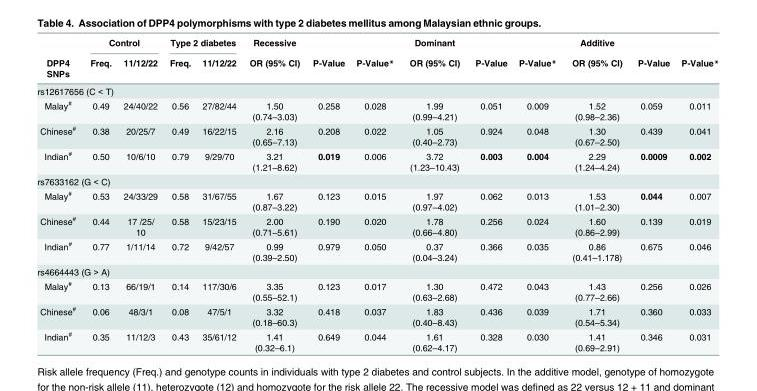table: (36, 36, 718, 352)
table column: (563, 36, 629, 352), (401, 36, 466, 352), (242, 36, 305, 352), (349, 36, 401, 352), (512, 36, 563, 352), (195, 36, 242, 352), (36, 36, 82, 352), (116, 36, 162, 352), (466, 36, 512, 352), (629, 36, 674, 352), (305, 36, 349, 352), (674, 36, 718, 352), (82, 36, 116, 352), (162, 36, 195, 352)
table column header: (36, 36, 718, 81)
table projected row header: (36, 81, 718, 97), (36, 173, 718, 187), (36, 264, 718, 278)
table row: (36, 52, 718, 81), (36, 147, 718, 173), (36, 212, 718, 238), (36, 238, 718, 264), (36, 97, 718, 122), (36, 122, 718, 147), (36, 187, 718, 212), (36, 278, 718, 303), (36, 303, 718, 328), (36, 328, 718, 352), (36, 36, 718, 52), (36, 81, 718, 97), (36, 173, 718, 187), (36, 264, 718, 278)
table spanning cell: (563, 36, 629, 81), (401, 36, 466, 81), (242, 36, 305, 81), (349, 36, 401, 81), (512, 36, 563, 81), (36, 36, 82, 81), (466, 36, 512, 81), (629, 36, 674, 81), (305, 36, 349, 81), (674, 36, 718, 81), (82, 36, 162, 52), (162, 36, 242, 52)
